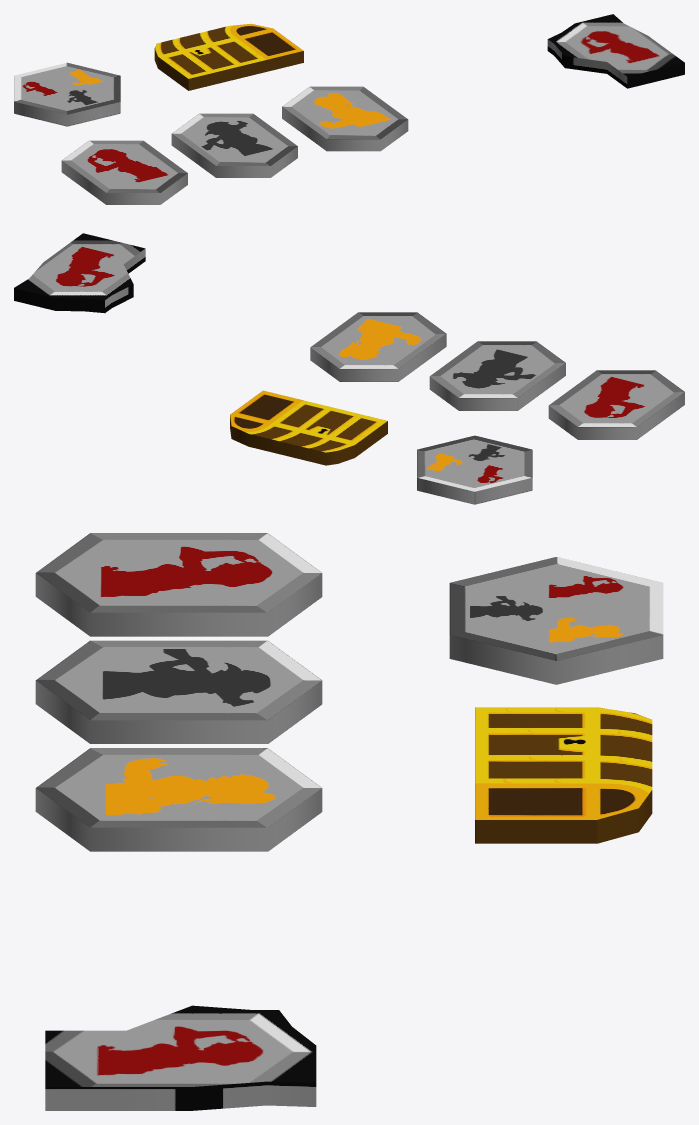
Rendered from cha_and_event.FBX.
3 renders of one model, top to bottom at view 1: azimuth 30°, elevation 25°; view 2: azimuth 150°, elevation 25°; view 3: azimuth 270°, elevation 25°, orthographic. The views are drawn at different scales.
Parts seen in each view (by area): view 1: Box006, Cylinder001, Object002, Object001, Box007, Cylinder002; view 2: Box006, Cylinder001, Object001, Object002, Box007, Cylinder002; view 3: Cylinder001, Object002, Object001, Box007, Box006, Cylinder002.
Boxes of the visible parts, left/top/right/bottom form: Box006: left=154, top=24, right=303, bottom=90; Cylinder001: left=282, top=86, right=408, bottom=151; Object002: left=61, top=140, right=187, bottom=204; Object001: left=171, top=113, right=297, bottom=177; Box007: left=547, top=14, right=684, bottom=88; Cylinder002: left=14, top=62, right=120, bottom=126; Box006: left=230, top=390, right=387, bottom=465; Cylinder001: left=310, top=312, right=446, bottom=381; Object001: left=429, top=341, right=565, bottom=410; Object002: left=548, top=370, right=684, bottom=439; Box007: left=14, top=233, right=145, bottom=313; Cylinder002: left=417, top=435, right=532, bottom=504; Cylinder001: left=35, top=748, right=322, bottom=851; Object002: left=35, top=533, right=322, bottom=636; Object001: left=35, top=640, right=322, bottom=743; Box007: left=45, top=1005, right=316, bottom=1110; Box006: left=475, top=707, right=652, bottom=843; Cylinder002: left=449, top=557, right=663, bottom=684.
Size of the model in its own units: 235 by 4.72 by 112.
5 materials, 5 textured.
